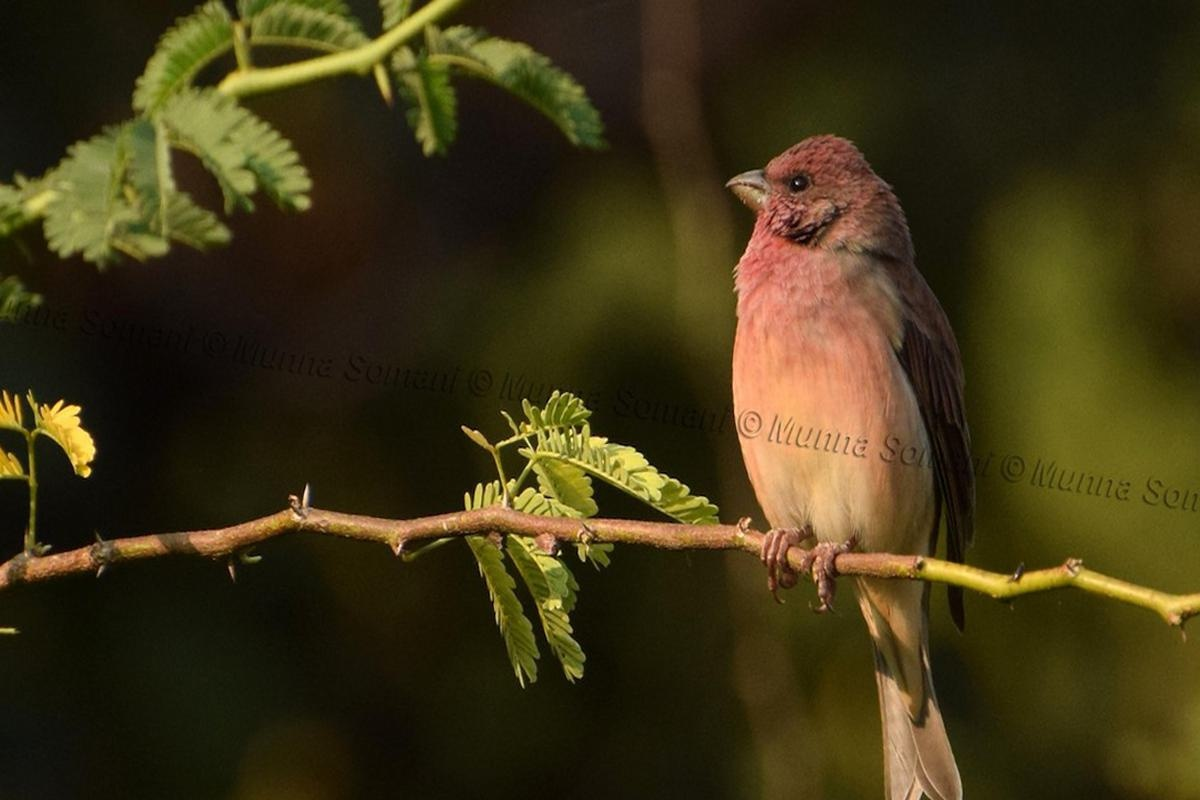rosefinch: (699, 126, 968, 725)
